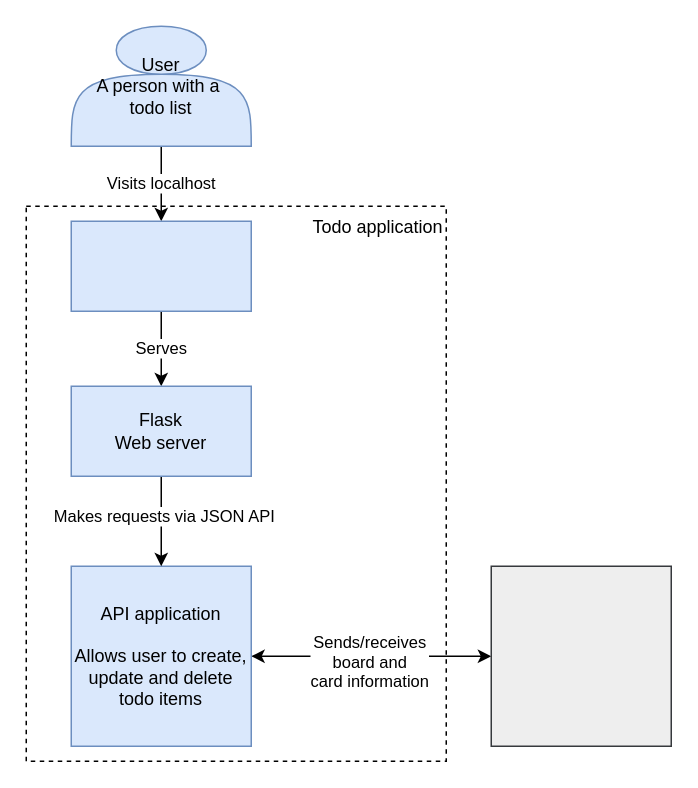
This 698x788 diagram has some shape labels left out. The shapes that lost their labels are listed below. From the top down, each one's centre as x and y in pixels, then its label:
At point (160, 265): "Gunicorn WSGI HTTP Server".
At point (580, 655): "Trello Stores the todo items (as cards) in a pre-made board".
